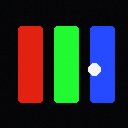2 circle: (88, 63, 100, 75)
